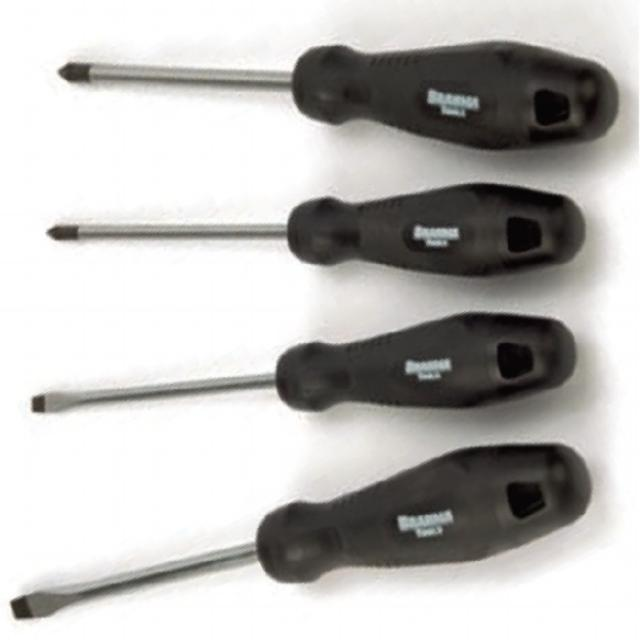screwdriver: (7, 436, 598, 626), (51, 30, 627, 156), (26, 304, 584, 426), (34, 173, 592, 281)
